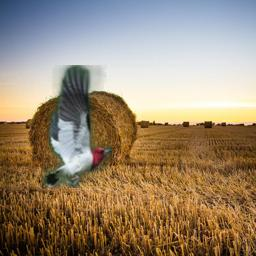Woodpecker: (42, 65, 112, 188)
